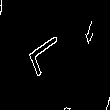L_NE: (33, 29, 77, 81)
